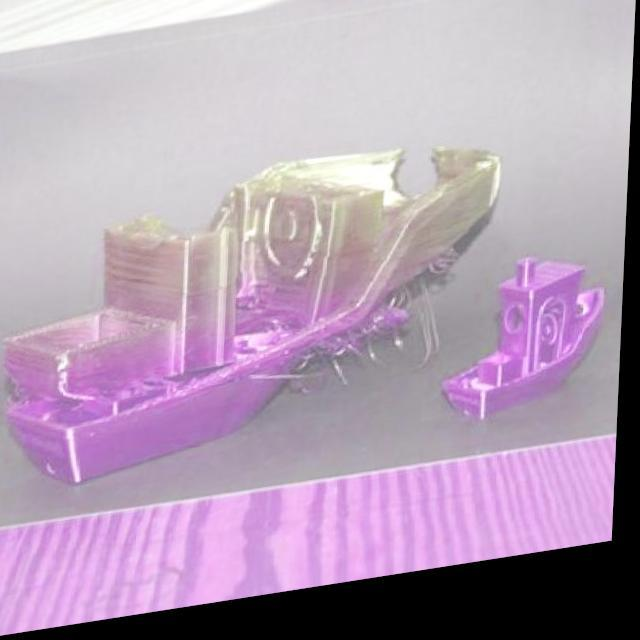spaghetti: (284, 296, 416, 406), (416, 286, 446, 383), (236, 290, 278, 321), (430, 260, 464, 290), (7, 382, 36, 408)
